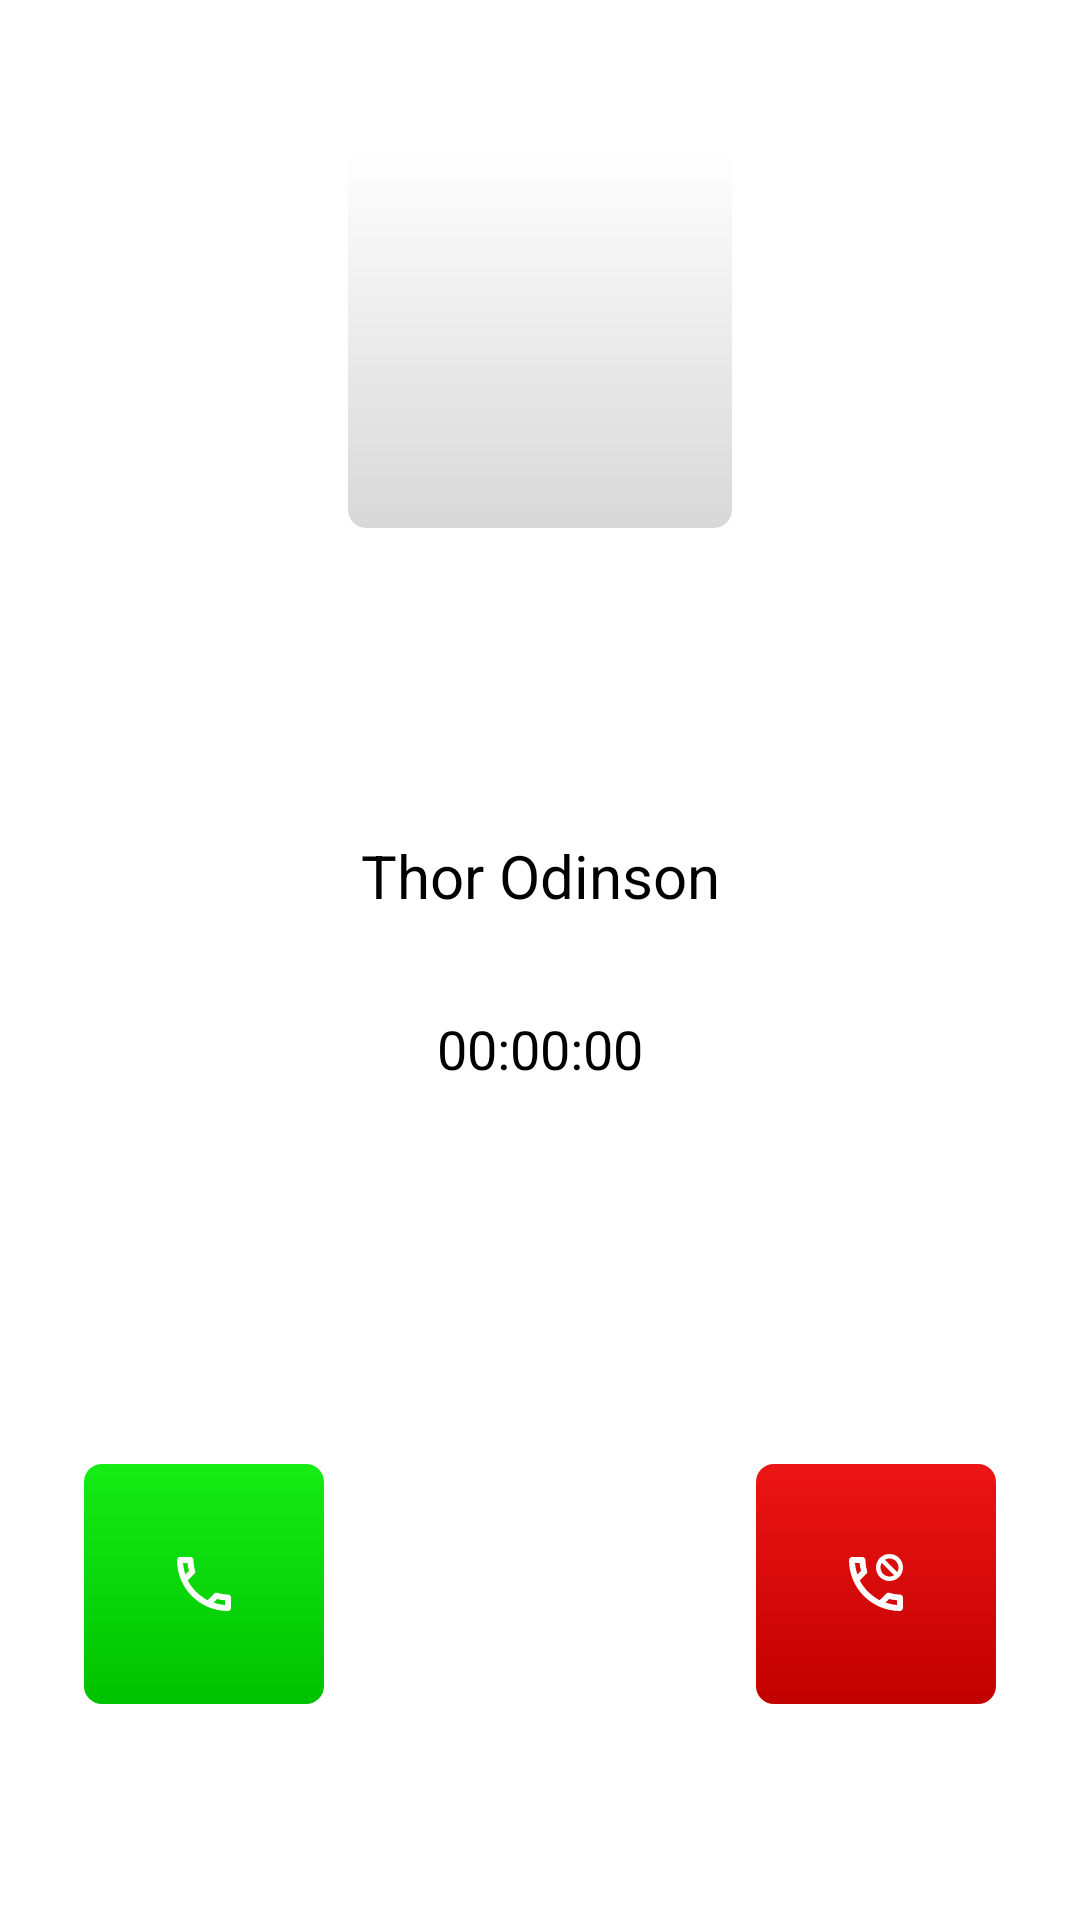

Screen size 1080 × 1920. Icon name, then its box in pixels as (x1, y1, x2, y2):
phone: (84, 1464, 324, 1704)
phone cancel: (756, 1464, 996, 1704)
